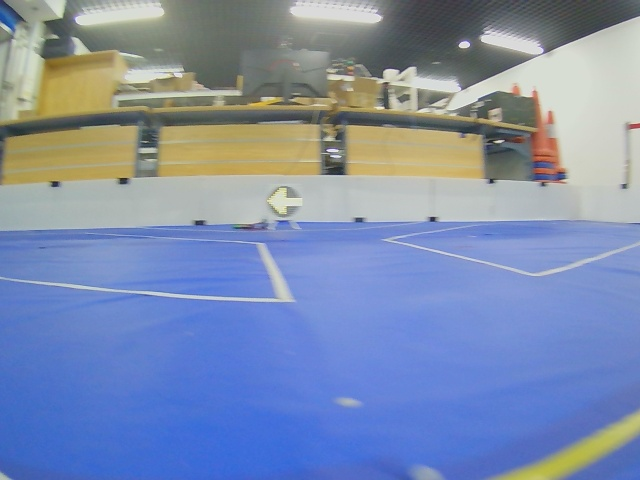left_yellow: (267, 186, 303, 218)
